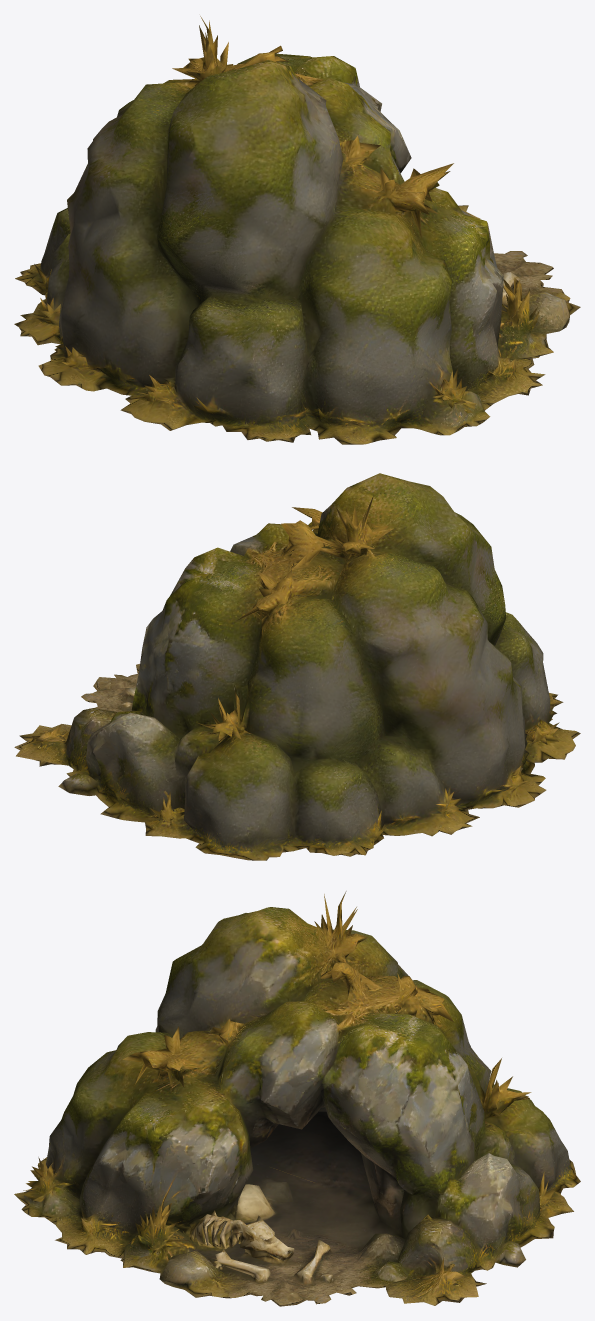
The model's file is wolfden-tripo.glb.
3 views of the same model, one above another, from view 1: azimuth 30°, elevation 25°; view 2: azimuth 150°, elevation 25°; view 3: azimuth 270°, elevation 25° (orthographic). The views are drawn at different scales.
Parts seen in each view (by area): view 1: tripo_node_3c532c7b-419e-46ef-94db-03e470ebed15; view 2: tripo_node_3c532c7b-419e-46ef-94db-03e470ebed15; view 3: tripo_node_3c532c7b-419e-46ef-94db-03e470ebed15.
Part boxes in pixels (<box>): tripo_node_3c532c7b-419e-46ef-94db-03e470ebed15: <box>14,16,580,444</box>; tripo_node_3c532c7b-419e-46ef-94db-03e470ebed15: <box>14,473,580,860</box>; tripo_node_3c532c7b-419e-46ef-94db-03e470ebed15: <box>14,891,580,1306</box>.
Size of the model in its own units: 0.9104 by 0.542 by 1.
1 material, 1 textured.
